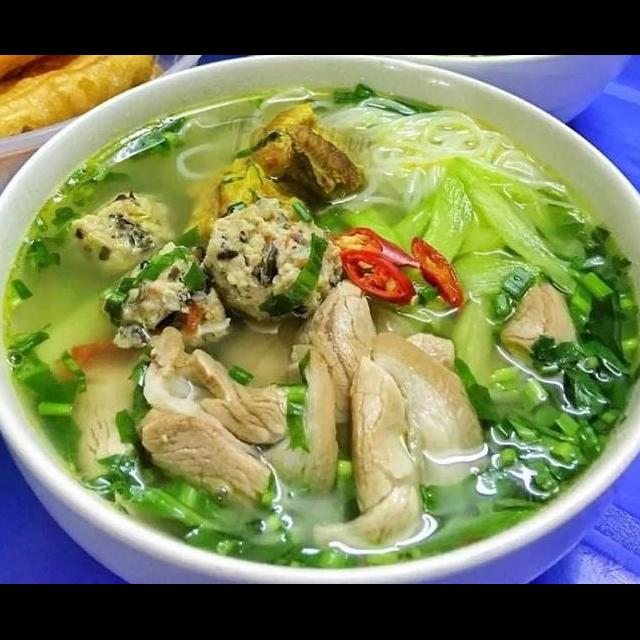bun: (324, 90, 552, 226)
bun moc: (0, 87, 640, 584)
thit heo: (127, 320, 319, 540), (305, 350, 431, 556), (367, 322, 494, 497), (291, 274, 391, 458), (60, 348, 153, 490), (495, 272, 591, 382)
vien moc: (203, 190, 354, 332), (105, 240, 237, 358), (68, 192, 183, 276)
